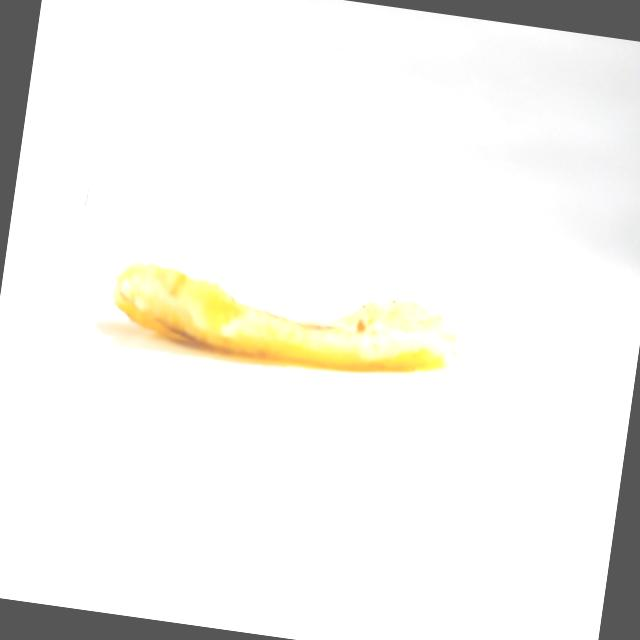Mbeju: (93, 218, 482, 400)
